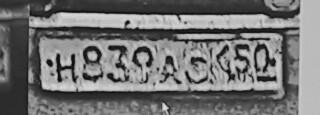license-plateSW: (36, 30, 284, 98)
